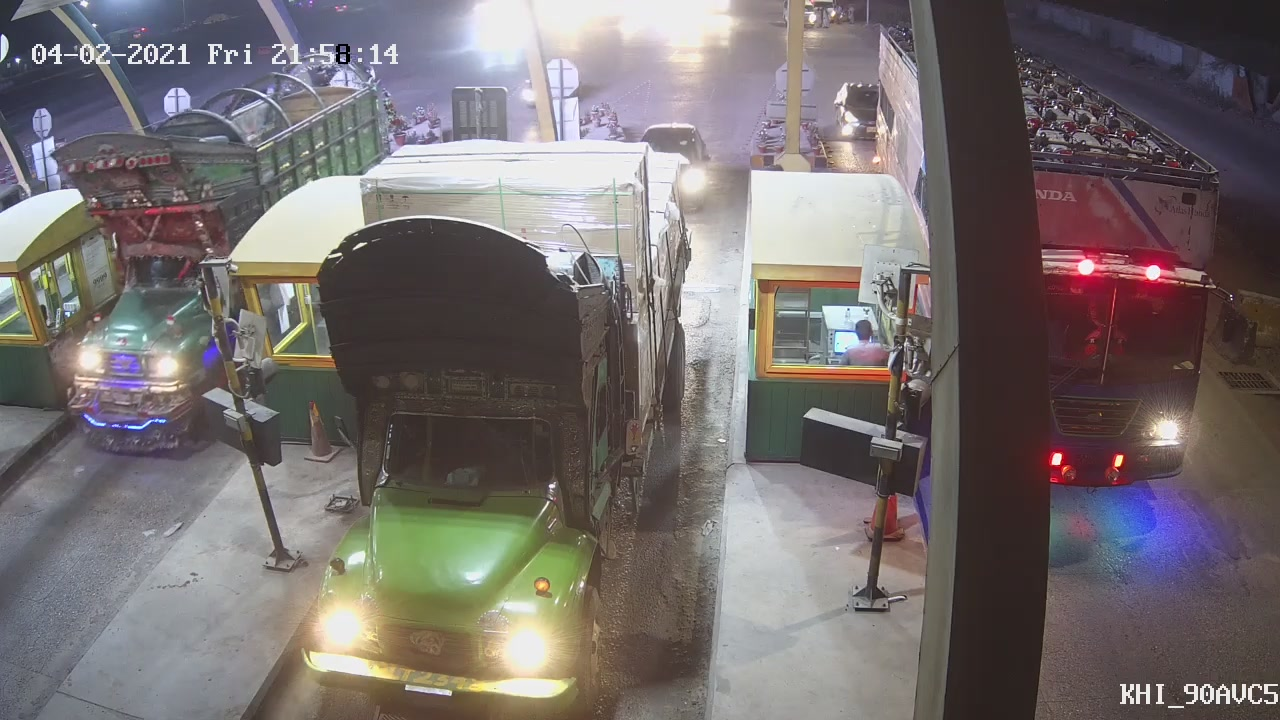F5: (280, 136, 704, 718)
